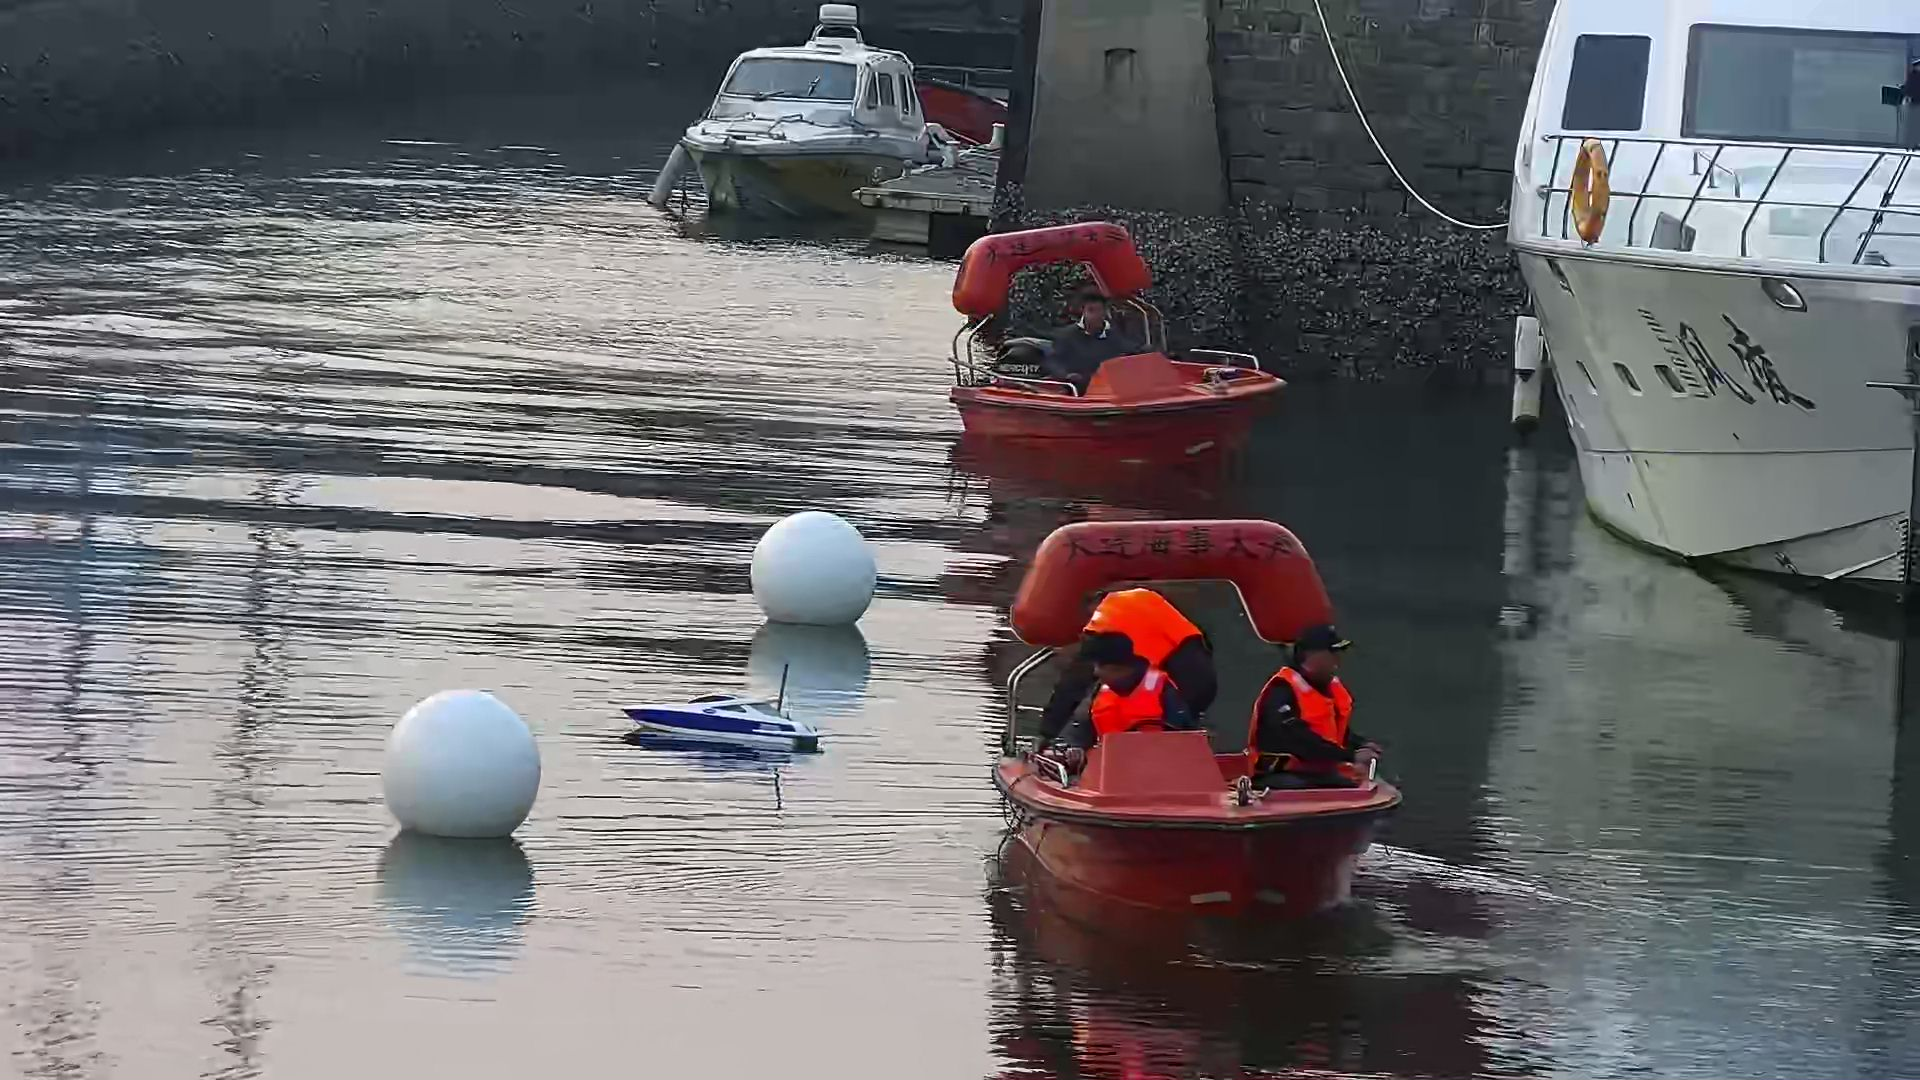ball: (377, 691, 538, 845), (748, 508, 881, 632)
boat: (991, 497, 1401, 921), (949, 225, 1288, 459), (611, 691, 819, 759)
person: (1247, 635, 1364, 792), (1072, 640, 1196, 731), (1054, 292, 1121, 388)
ship: (687, 4, 934, 221)
